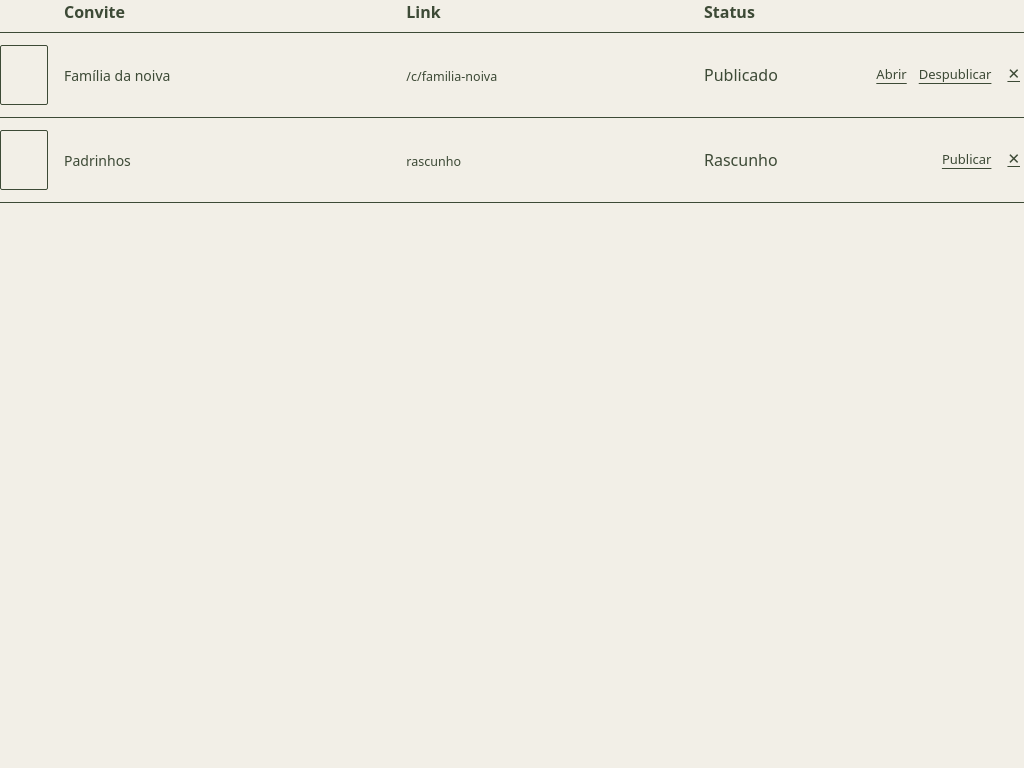
SC-006: apagar passa pelo diálogo › o botão repete o verbo, e o aviso muda se o convite está no ar
The width and height of the screenshot is (1024, 768).
Click the button named "Apagar Família da noiva". click: (1014, 75)
box: x1=1003 y1=65 x2=1023 y2=85
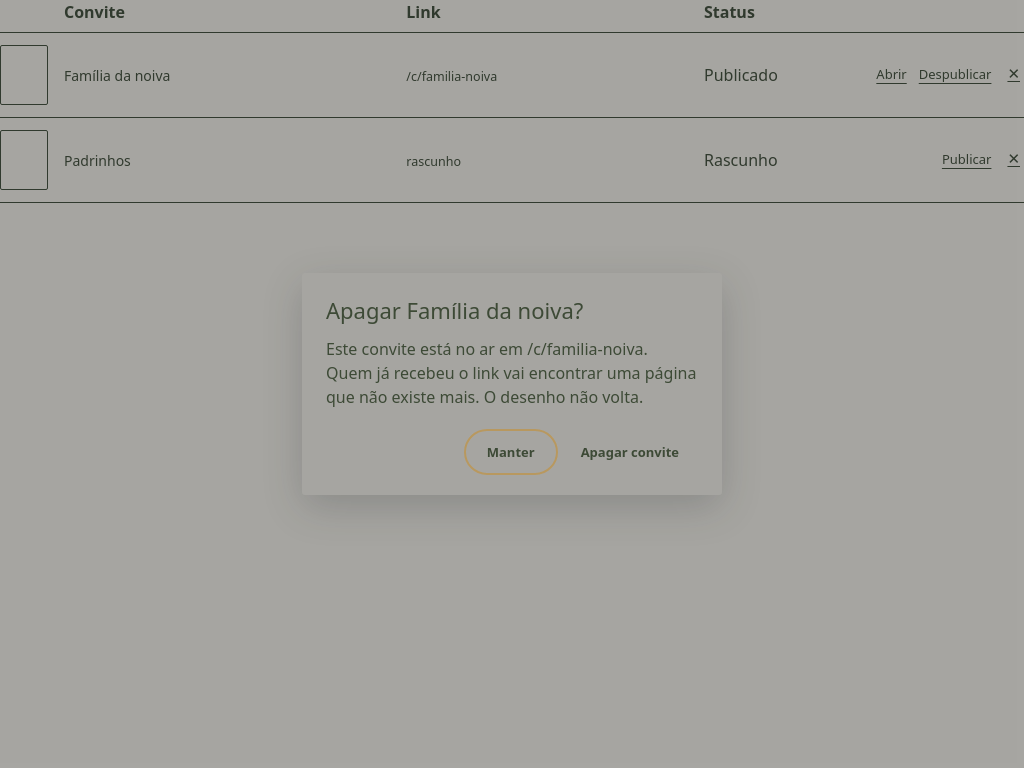
Check: the dialog shows "Apagar convite", box x1=562 y1=433 x2=698 y2=471
Check: the dialog shows "/c/familia-noiva", box x1=326 y1=338 x2=696 y2=408
Check: the dialog shows "página que não existe mais", box x1=326 y1=338 x2=696 y2=408
